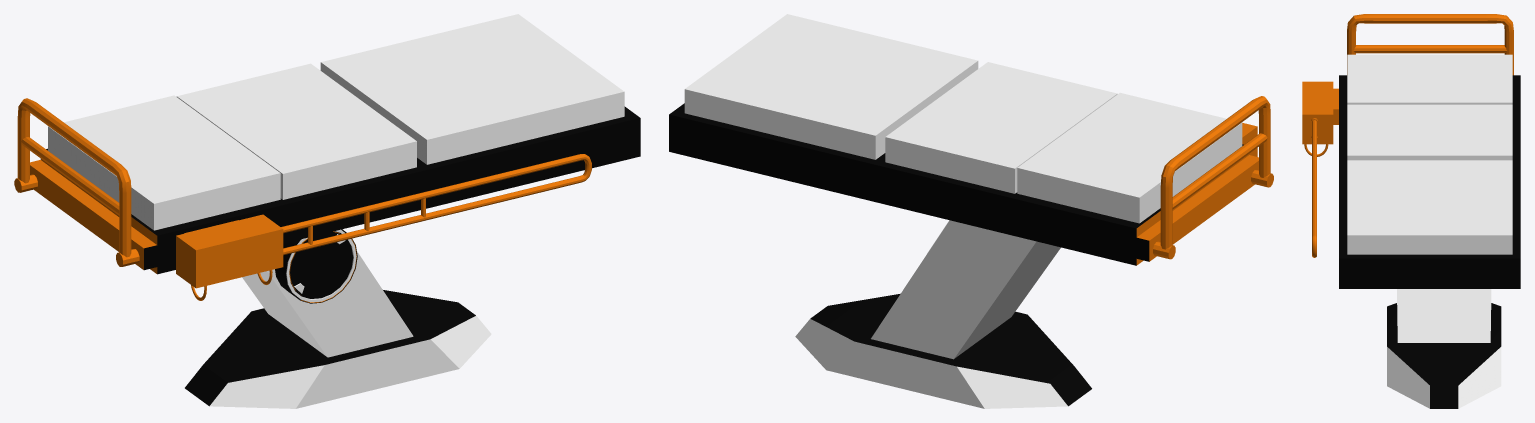
File: SM_bedscifi.fbx
3 views of the same model, side by side, from view 1: azimuth 30°, elevation 25°; view 2: azimuth 150°, elevation 25°; view 3: azimuth 270°, elevation 25° (orthographic). The views are drawn at different scales.
Visible parts, largest first — view 1: bedscifi_lp; view 2: bedscifi_lp; view 3: bedscifi_lp.
Boxes of the visible parts, <box> form: bedscifi_lp: <box>14,14,640,408</box>; bedscifi_lp: <box>669,14,1273,408</box>; bedscifi_lp: <box>1302,14,1520,408</box>.
Bounding box in the file's own units: 206 × 116 × 97.56.
1 material, 1 textured.
